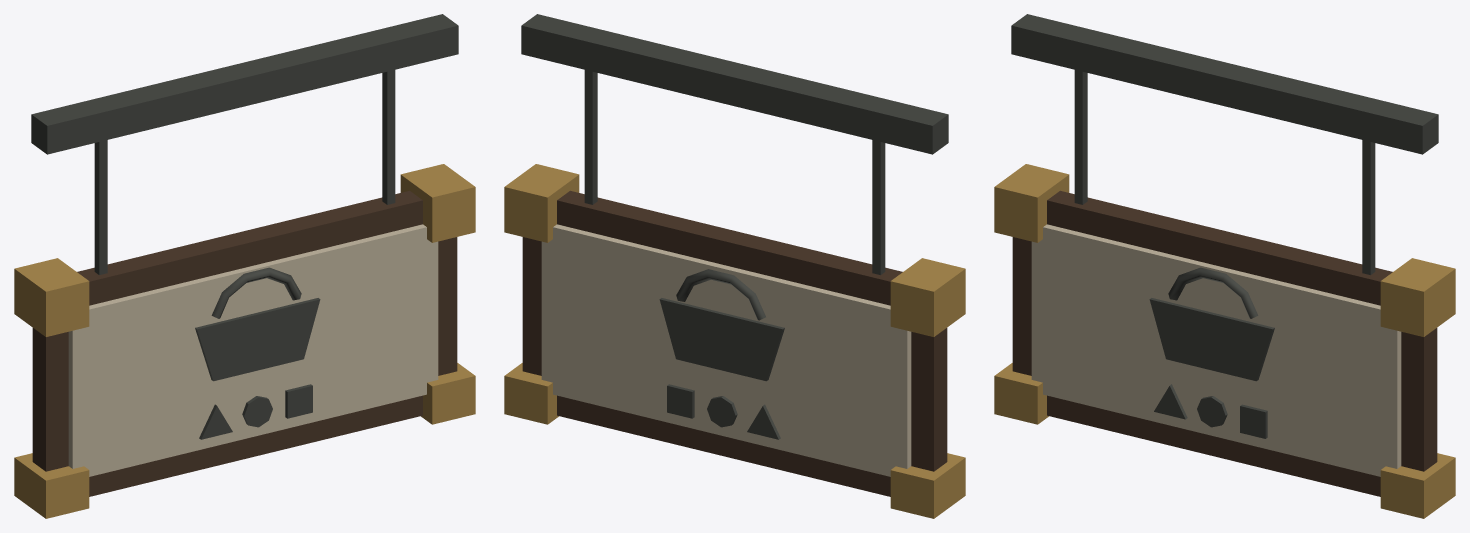
Rendered from sign_hang.glb.
3 views of the same model, side by side, from view 1: azimuth 30°, elevation 25°; view 2: azimuth 150°, elevation 25°; view 3: azimuth 330°, elevation 25° (orthographic).
Parts seen in each view (by area): view 1: sign_hang; view 2: sign_hang; view 3: sign_hang.
Boxes of the visible parts, bbox=[...] form: sign_hang: bbox=[14, 14, 475, 518]; sign_hang: bbox=[504, 14, 965, 518]; sign_hang: bbox=[994, 14, 1455, 518].
Size of the model in its own units: 0.94 by 0.805 by 0.1228.
